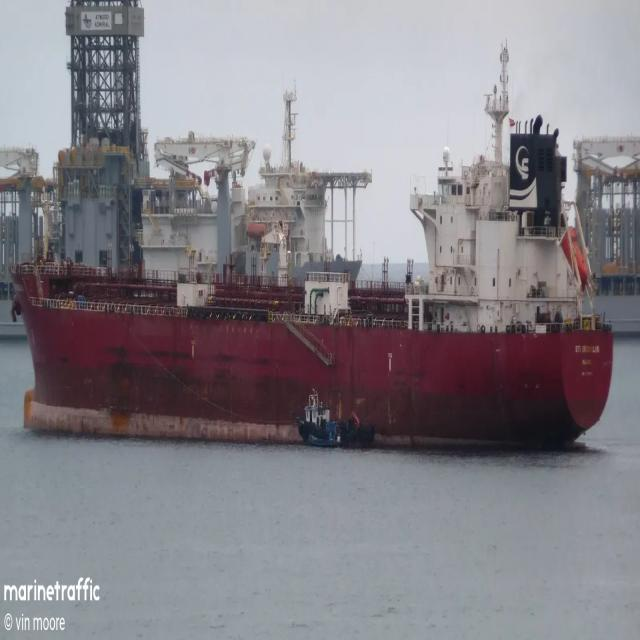Tanker: (11, 48, 612, 444)
Tug: (299, 390, 340, 447)
